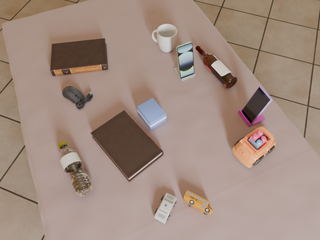book: (91, 110, 163, 182), (50, 38, 108, 76)
bottle: (59, 142, 94, 197), (196, 46, 237, 88)
box: (137, 98, 166, 130)
cup: (152, 24, 177, 52)
mouse: (62, 86, 93, 109)
phone: (242, 86, 272, 124), (177, 42, 194, 78)
toy_car: (232, 127, 276, 168), (183, 190, 213, 215), (154, 193, 177, 224)
